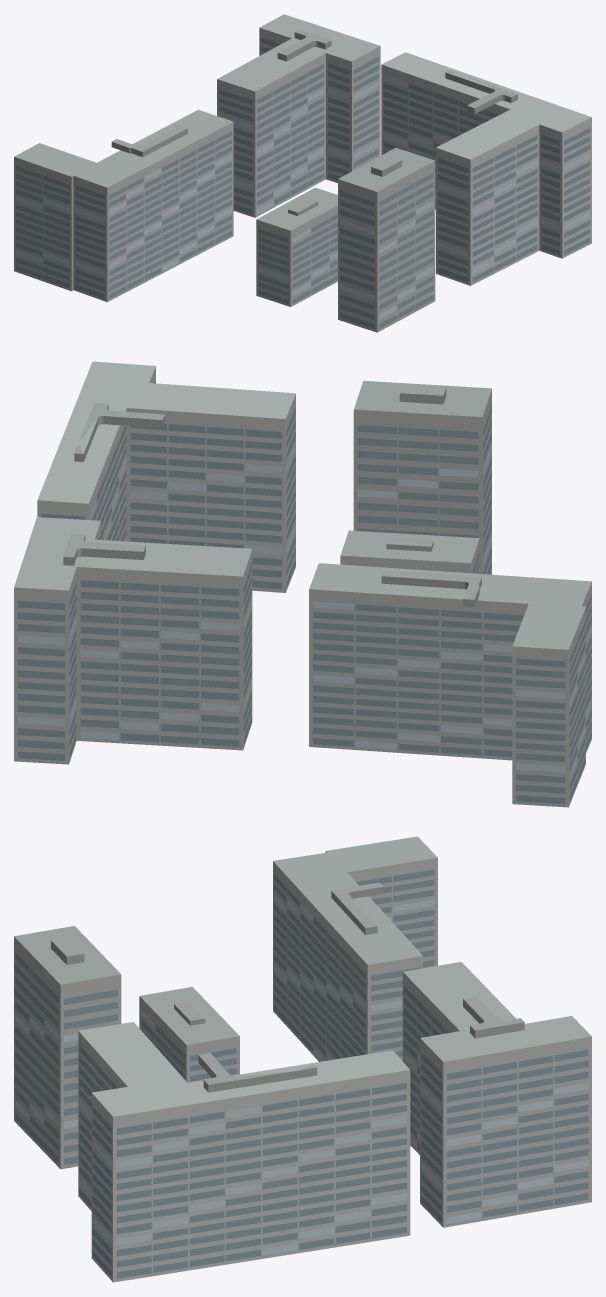
File: apt-a10024813.glb
3 renders of one model, top to bottom at view 1: azimuth 30°, elevation 25°; view 2: azimuth 150°, elevation 25°; view 3: azimuth 270°, elevation 25°, orthographic. The views are drawn at different scales.
Visible parts, largest first — view 1: apt-a10024813; view 2: apt-a10024813; view 3: apt-a10024813.
Boxes of the visible parts, x1,y1,x2,y2 form: apt-a10024813: (14, 14, 591, 332); apt-a10024813: (14, 361, 591, 807); apt-a10024813: (14, 836, 591, 1282).
Size of the model in its own units: 157 by 47.81 by 130.
